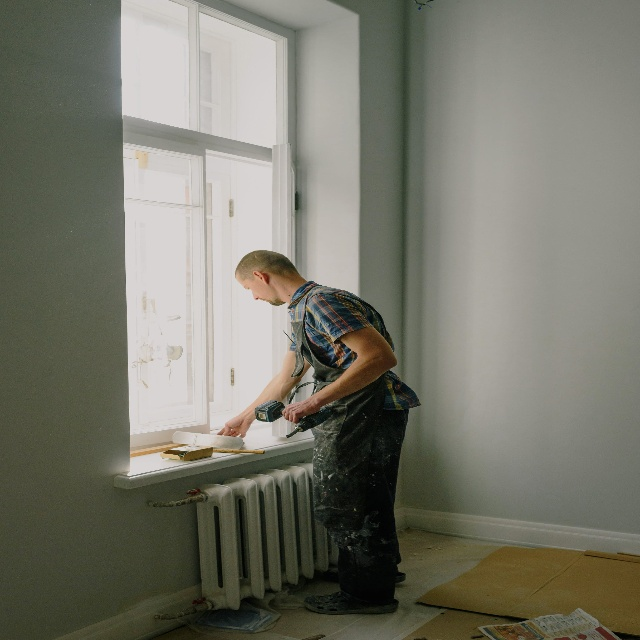Sin_guantes: (282, 397, 319, 424), (216, 416, 250, 439)
